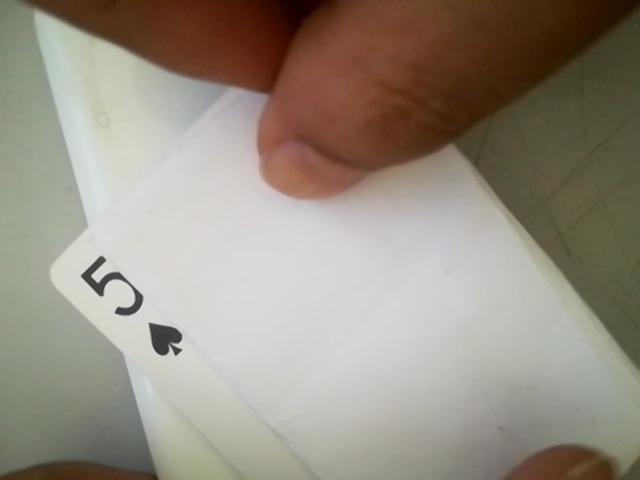ht 5: (63, 246, 199, 367)
